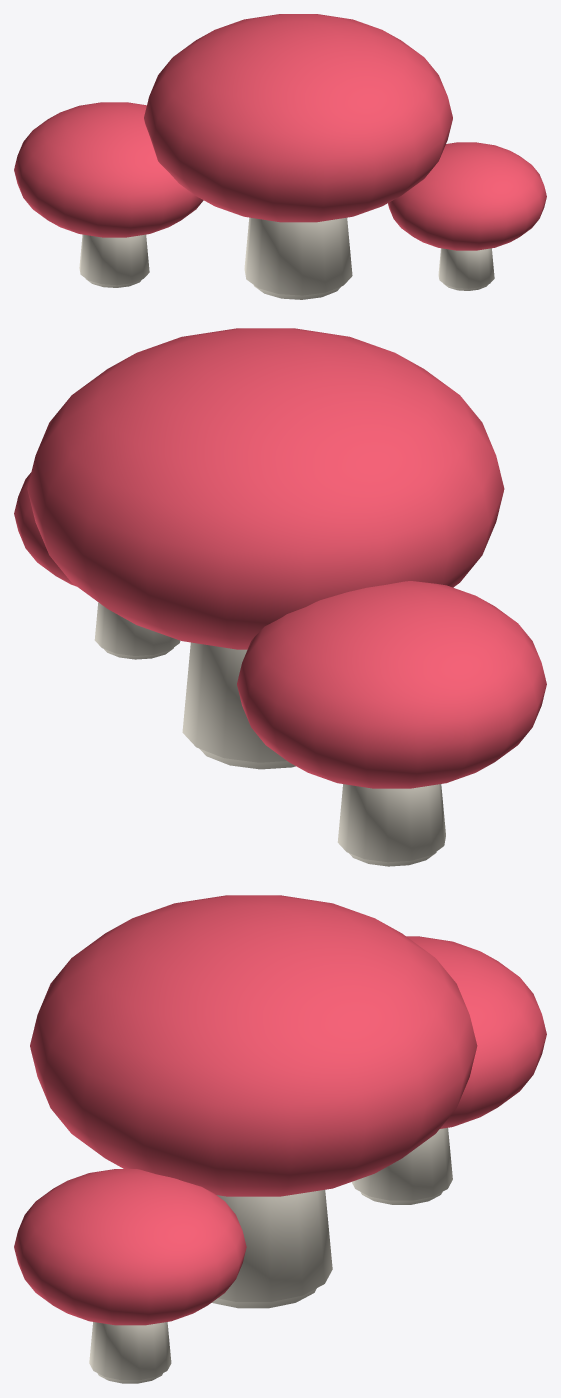
Rendered from mushroom_spotted.glb.
3 renders of one model, top to bottom at view 1: azimuth 30°, elevation 25°; view 2: azimuth 150°, elevation 25°; view 3: azimuth 270°, elevation 25°, orthographic. The views are drawn at different scales.
Visible parts, largest first — view 1: Cap_0, Cap_1, Cap_2, Stalk_0, Stalk_1, Stalk_2; view 2: Cap_0, Cap_1, Stalk_1, Stalk_0, Stalk_2, Cap_2; view 3: Cap_0, Cap_2, Cap_1, Stalk_0, Stalk_2, Stalk_1.
Boxes of the visible parts, x1,y1,x2,y2 form: Cap_0: (144, 14, 452, 222); Cap_1: (14, 102, 203, 237); Cap_2: (388, 142, 546, 250); Stalk_0: (244, 217, 352, 299); Stalk_1: (79, 234, 149, 287); Stalk_2: (438, 248, 494, 290); Cap_0: (27, 328, 504, 649); Cap_1: (237, 581, 546, 788); Stalk_1: (337, 784, 445, 866); Stalk_0: (182, 642, 295, 769); Stalk_2: (94, 602, 180, 659); Cap_2: (14, 472, 76, 586); Cap_0: (30, 895, 477, 1196); Cap_2: (14, 1169, 246, 1325); Cap_1: (406, 936, 546, 1128); Stalk_0: (211, 1190, 332, 1308); Stalk_2: (89, 1322, 171, 1383); Stalk_1: (351, 1128, 452, 1204).
Bounding box in the file's own units: 0.5591 × 0.3172 × 0.4324.
